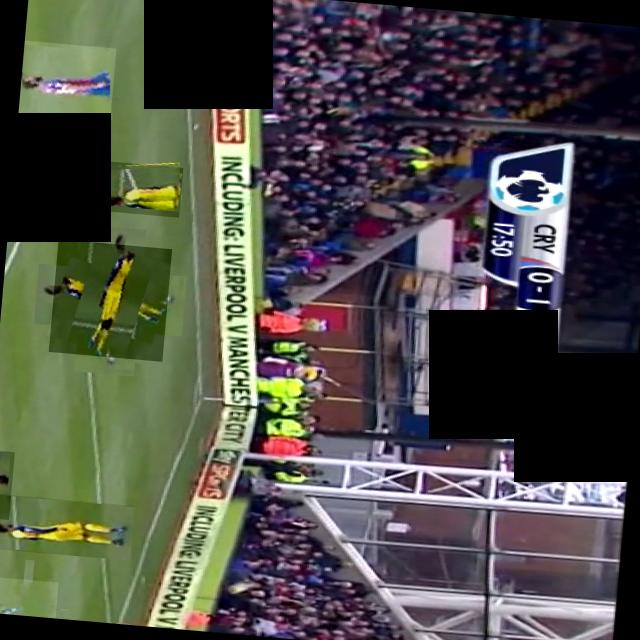referee: (9, 152, 182, 218)
soccer-player: (48, 238, 170, 362), (0, 492, 133, 560), (16, 40, 115, 131), (12, 128, 88, 206), (0, 577, 57, 618), (0, 449, 13, 519)
